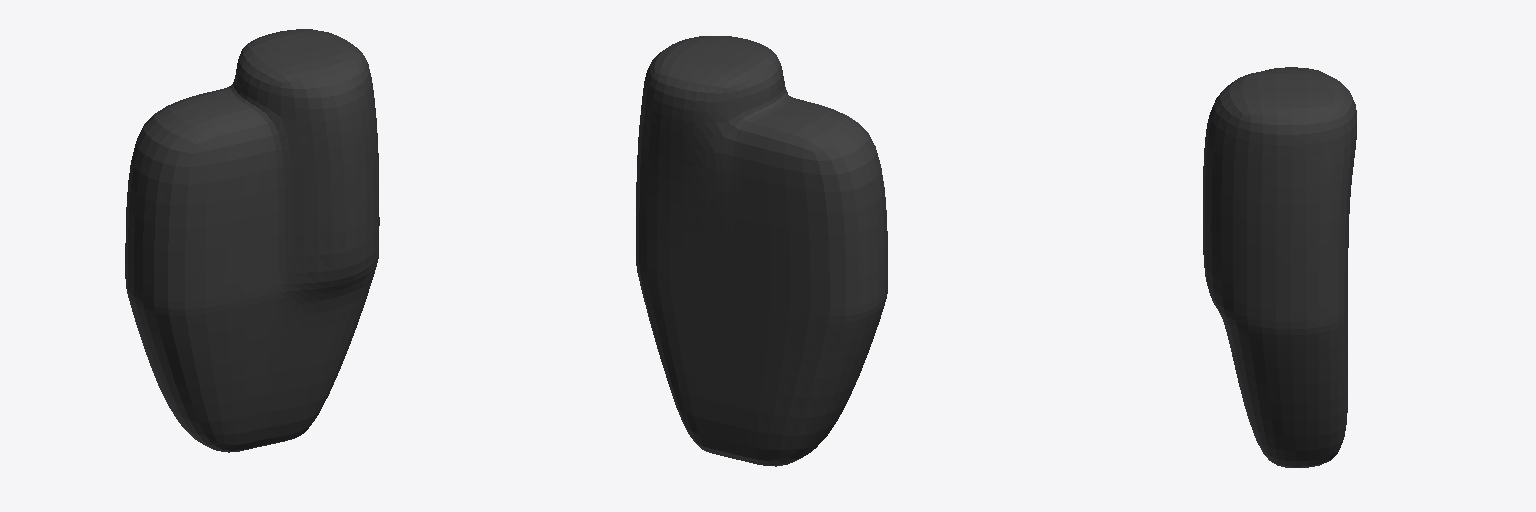
Rendered from Left_Engine.obj.
3 renders of one model, left to right at view 1: azimuth 30°, elevation 25°; view 2: azimuth 150°, elevation 25°; view 3: azimuth 270°, elevation 25°, orthographic.
Visible parts, largest first — view 1: Left_Engine_Cube.016; view 2: Left_Engine_Cube.016; view 3: Left_Engine_Cube.016.
Boxes of the visible parts, x1=… form: Left_Engine_Cube.016: x1=125, y1=29, x2=379, y2=452; Left_Engine_Cube.016: x1=636, y1=36, x2=887, y2=466; Left_Engine_Cube.016: x1=1203, y1=67, x2=1356, y2=467.
Size of the model in its own units: 2.85 by 4.51 by 1.64.